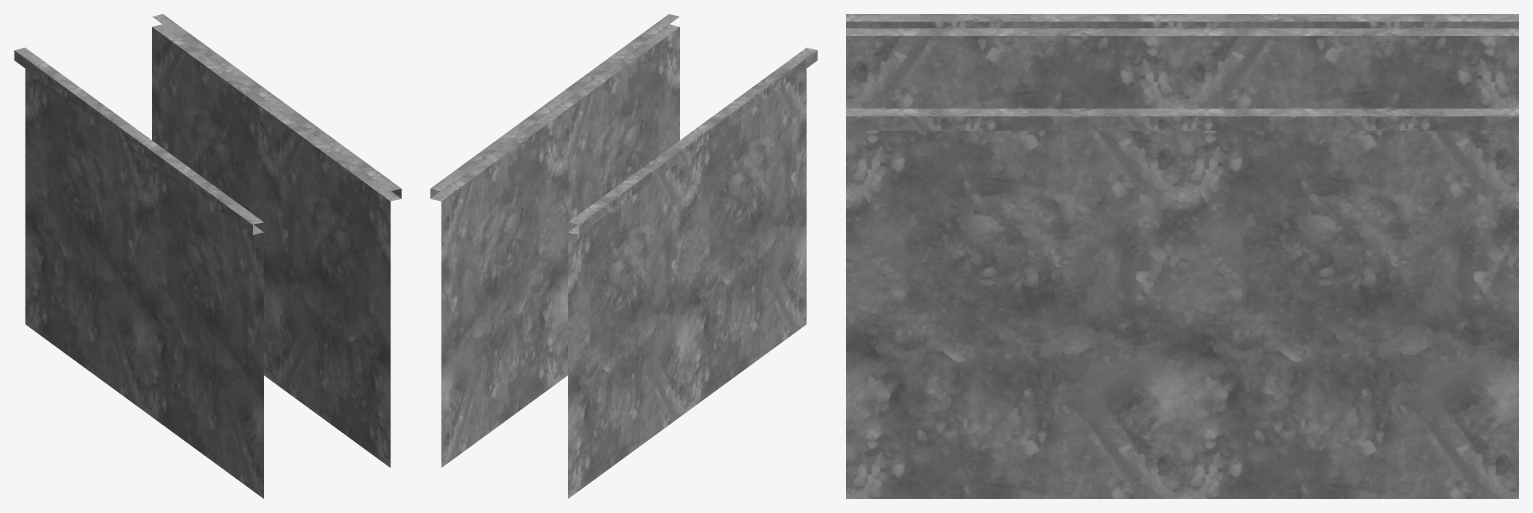
The model's file is SM_WallArch_01b.fbx.
3 renders of one model, left to right at view 1: azimuth 30°, elevation 25°; view 2: azimuth 150°, elevation 25°; view 3: azimuth 270°, elevation 25°, orthographic. The views are drawn at different scales.
Parts seen in each view (by area): view 1: SM_WallArch_01b_LOD0; view 2: SM_WallArch_01b_LOD0; view 3: SM_WallArch_01b_LOD0.
Boxes of the visible parts, x1,y1,x2,y2 form: SM_WallArch_01b_LOD0: (14, 14, 401, 498); SM_WallArch_01b_LOD0: (430, 14, 817, 498); SM_WallArch_01b_LOD0: (846, 14, 1518, 498).
Bounding box in the file's own units: 270 × 750 × 480.
